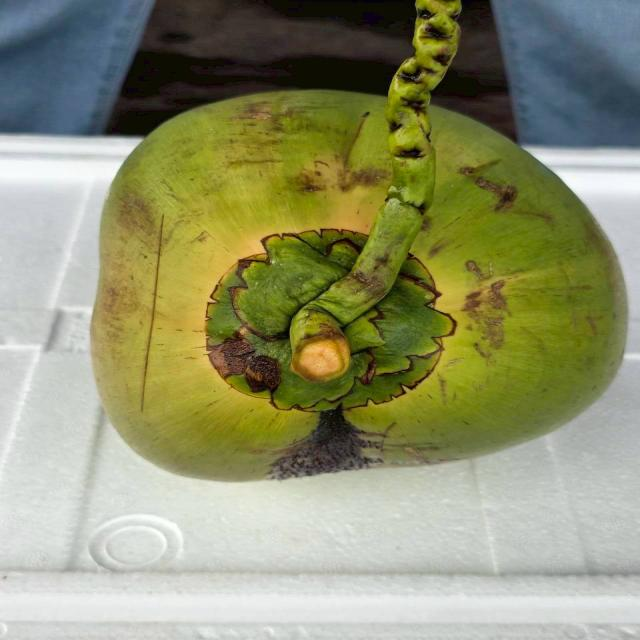coco_2.0: (177, 200, 488, 436)
